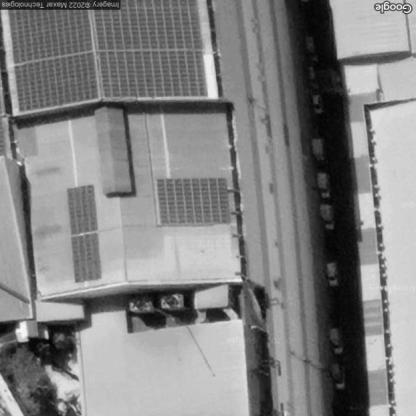solar-pv-panel: (8, 0, 208, 112), (65, 186, 103, 283), (155, 178, 231, 226)
